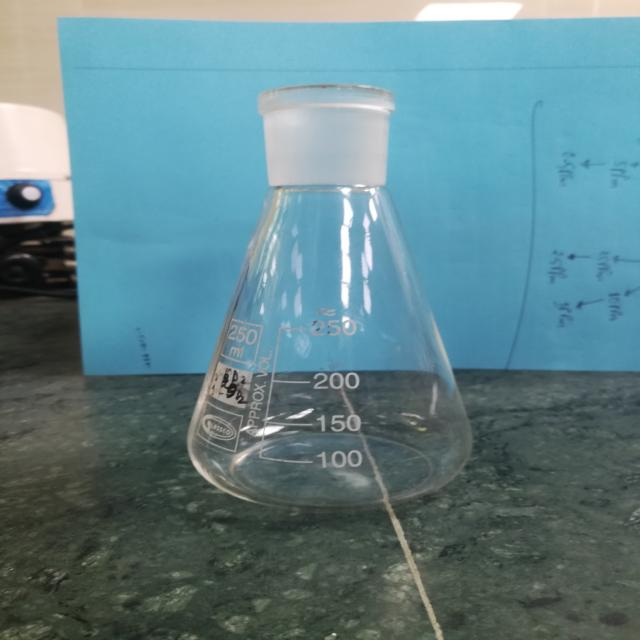Conical_Flask: (142, 41, 521, 544)
